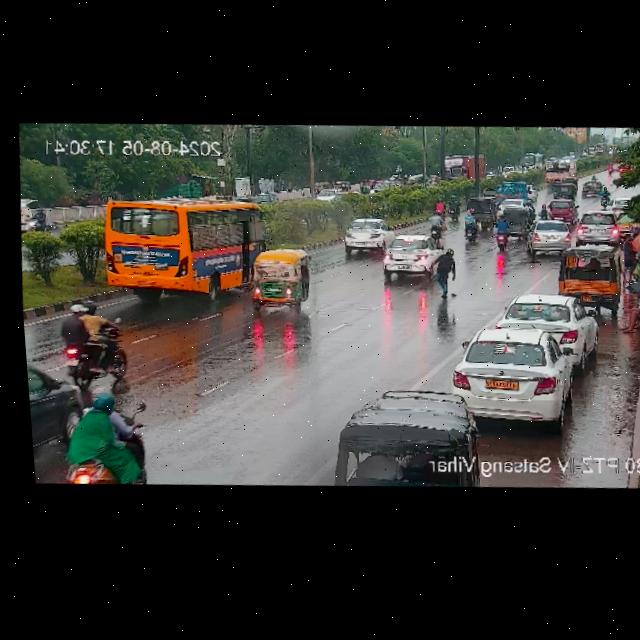bus: (100, 188, 272, 311), (522, 149, 544, 172)
car: (453, 326, 576, 428), (26, 353, 87, 486), (497, 290, 596, 357), (246, 244, 317, 321), (552, 242, 623, 299), (376, 228, 443, 285), (341, 218, 400, 262), (524, 218, 576, 261), (572, 210, 622, 244), (463, 196, 497, 228), (501, 207, 532, 235), (575, 179, 605, 200), (494, 197, 532, 213), (547, 183, 579, 199), (606, 197, 634, 212), (313, 186, 340, 201), (358, 178, 376, 196)
motorcycle: (53, 383, 151, 488), (56, 301, 126, 383), (493, 211, 514, 251), (461, 206, 483, 243), (426, 209, 446, 244), (447, 194, 462, 223), (595, 187, 613, 209), (432, 199, 447, 217), (539, 205, 550, 218)
person: (427, 247, 461, 299), (619, 274, 640, 336), (619, 228, 640, 279)
truck: (443, 149, 490, 183), (496, 181, 527, 197)
